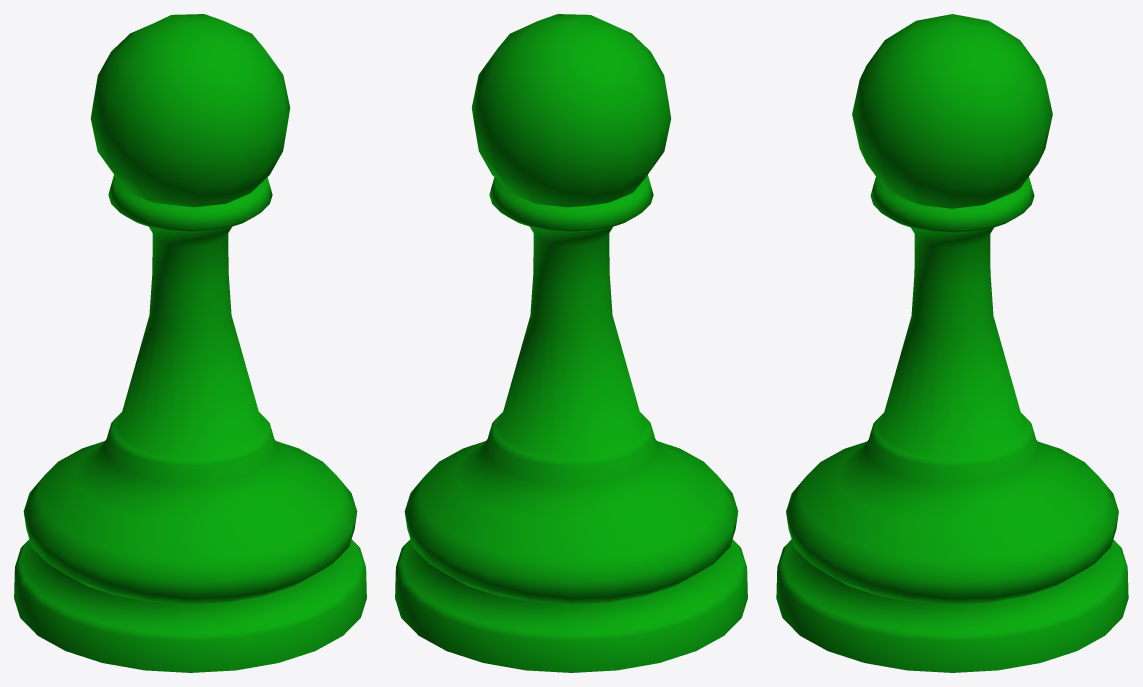
Rendered from SM_Ludo_Pawn.glb.
3 renders of one model, left to right at view 1: azimuth 30°, elevation 25°; view 2: azimuth 150°, elevation 25°; view 3: azimuth 270°, elevation 25°, orthographic.
Visible parts, largest first — view 1: Vert.013; view 2: Vert.013; view 3: Vert.013.
Part boxes in pixels (x1,y1,x2,y2): Vert.013: (14,14,366,672); Vert.013: (395,14,747,672); Vert.013: (776,14,1128,672).
Bounding box in the file's own units: 0.1253 × 0.2258 × 0.1253.
